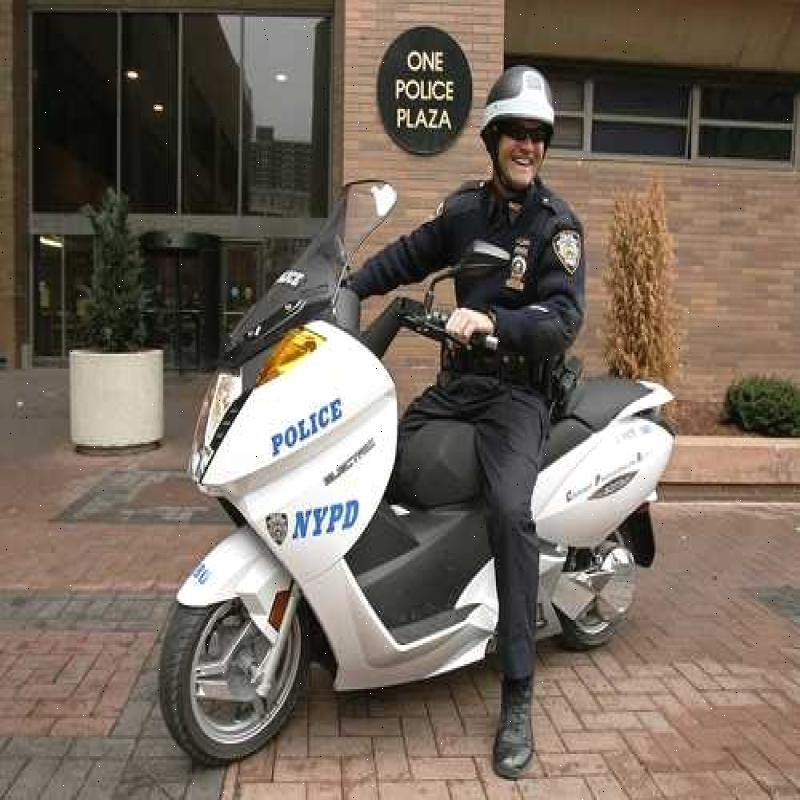bike: (127, 247, 673, 710)
